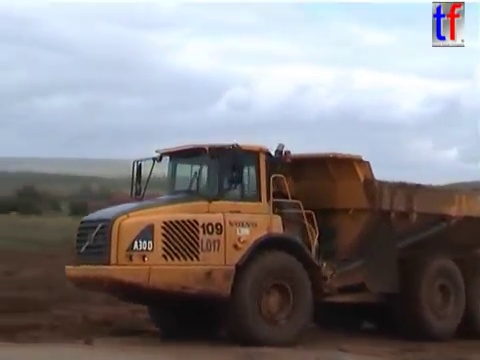truck: (61, 137, 480, 348)
